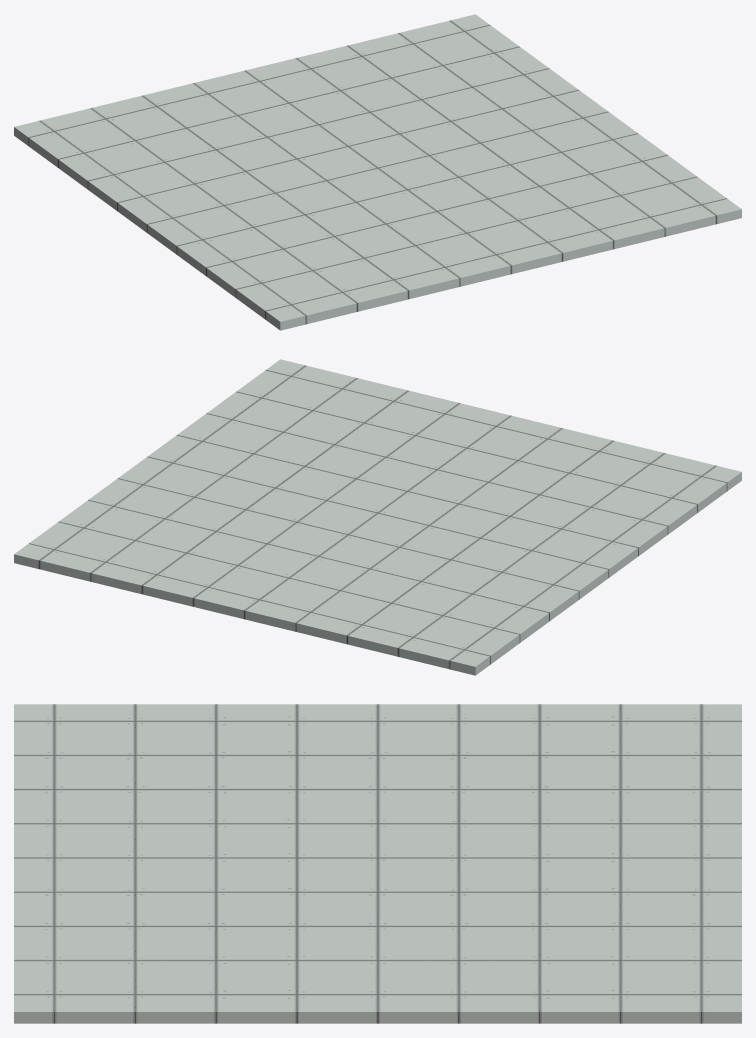
The model's file is Ground.fbx.
3 views of the same model, one above another, from view 1: azimuth 30°, elevation 25°; view 2: azimuth 150°, elevation 25°; view 3: azimuth 270°, elevation 25° (orthographic). The views are drawn at different scales.
Visible parts, largest first — view 1: Ground; view 2: Ground; view 3: Ground.
Part boxes in pixels (x1,y1,x2,y2): Ground: [14, 14, 741, 330]; Ground: [14, 359, 741, 675]; Ground: [14, 704, 741, 1023].
Bounding box in the file's own units: 1100 × 20 × 1100.
1 material, 1 textured.
